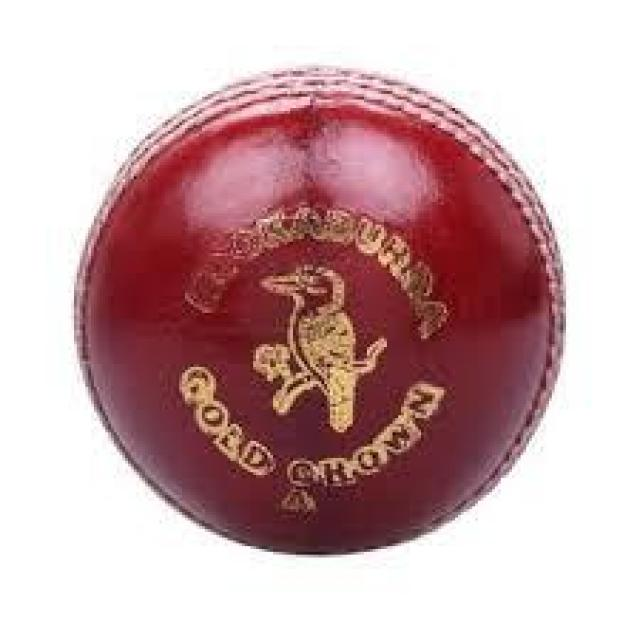ball: (77, 68, 569, 560)
